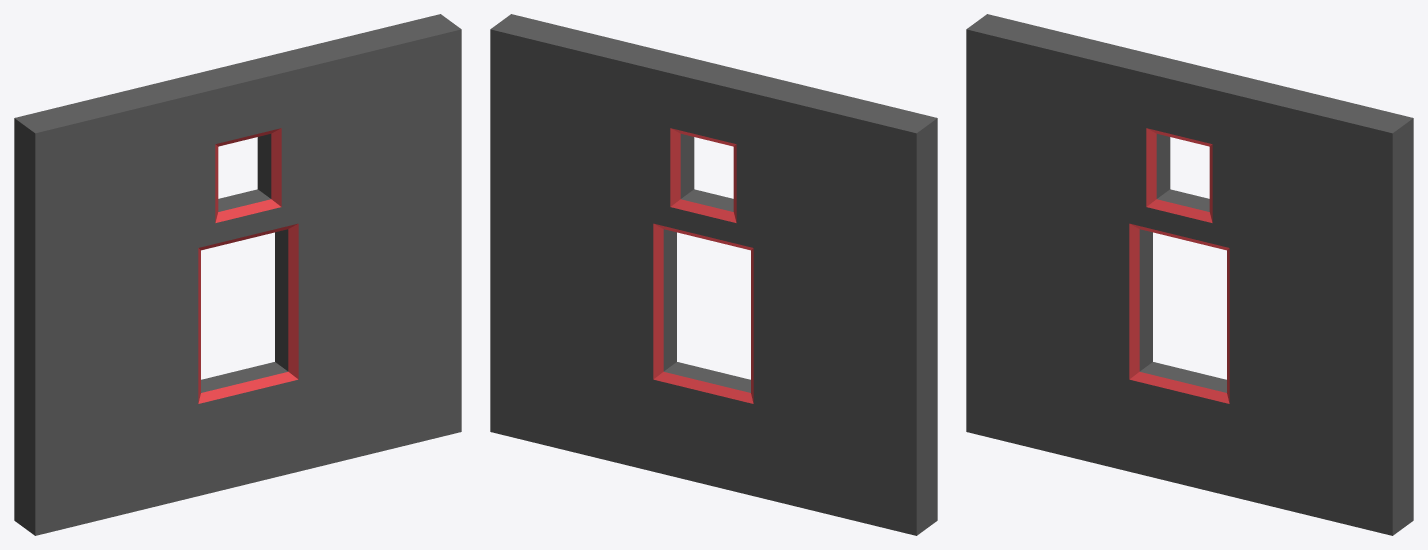
The model's file is WallEith.fbx.
The picture shows the model from 3 angles, left to right: view 1: azimuth 30°, elevation 25°; view 2: azimuth 150°, elevation 25°; view 3: azimuth 330°, elevation 25°; orthographic projection.
Visible parts, largest first — view 1: Cube.023; view 2: Cube.023; view 3: Cube.023.
Part boxes in pixels (x1,y1,x2,y2): Cube.023: (14,14,461,535); Cube.023: (490,14,937,535); Cube.023: (966,14,1413,535).
Bounding box in the file's own units: 50.11 × 45.21 × 4.27.
